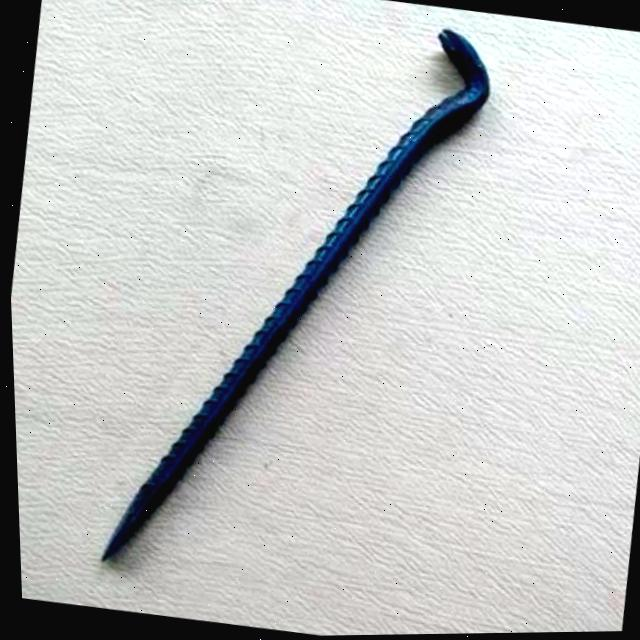crow bar: (99, 25, 497, 569)
